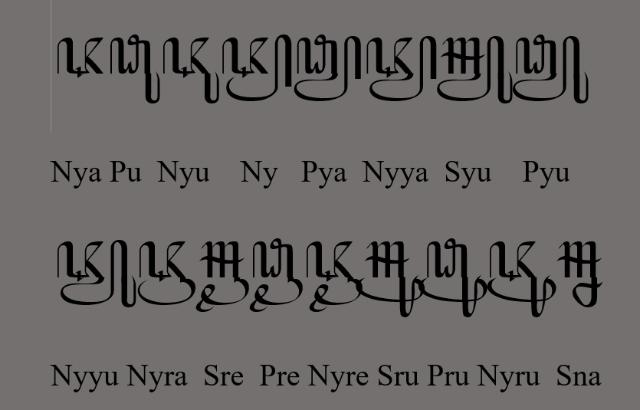-Ny: (222, 32, 292, 102)
Ny1: (58, 36, 104, 79)
Nyr: (138, 240, 196, 306)
Nyre: (305, 240, 363, 312)
Nyru: (488, 240, 556, 318)
Nyu1: (163, 36, 220, 104)
Nyy: (366, 34, 438, 102)
Nyyu: (57, 240, 137, 308)
Pre: (250, 238, 304, 312)
Pru: (418, 239, 488, 318)
Pu: (110, 34, 160, 104)
Py: (294, 34, 362, 102)
Pyu: (514, 34, 590, 104)
Sn: (558, 240, 602, 308)
Sre: (195, 240, 249, 312)
Sru: (356, 240, 426, 316)
Syu: (437, 34, 513, 104)
